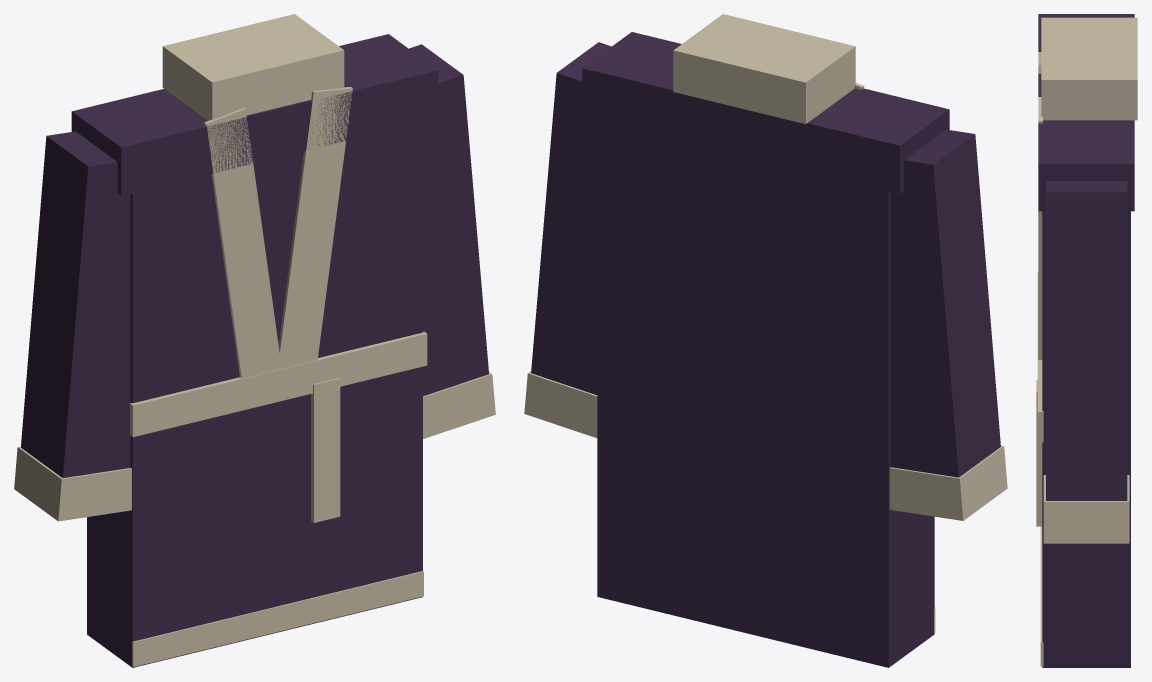
The model's file is bath-robe-on-hook.glb.
3 renders of one model, left to right at view 1: azimuth 30°, elevation 25°; view 2: azimuth 150°, elevation 25°; view 3: azimuth 270°, elevation 25°, orthographic. The views are drawn at different scales.
Parts seen in each view (by area): view 1: accent-purple, paper; view 2: accent-purple, paper; view 3: accent-purple, paper.
Boxes of the visible parts, x1,y1,x2,y2 form: accent-purple: [21, 34, 488, 667]; paper: [14, 14, 495, 666]; accent-purple: [531, 32, 1000, 667]; paper: [524, 14, 1007, 632]; accent-purple: [1038, 14, 1134, 667]; paper: [1036, 17, 1137, 666].
Size of the model in its own units: 0.6628 by 0.82 by 0.137.
